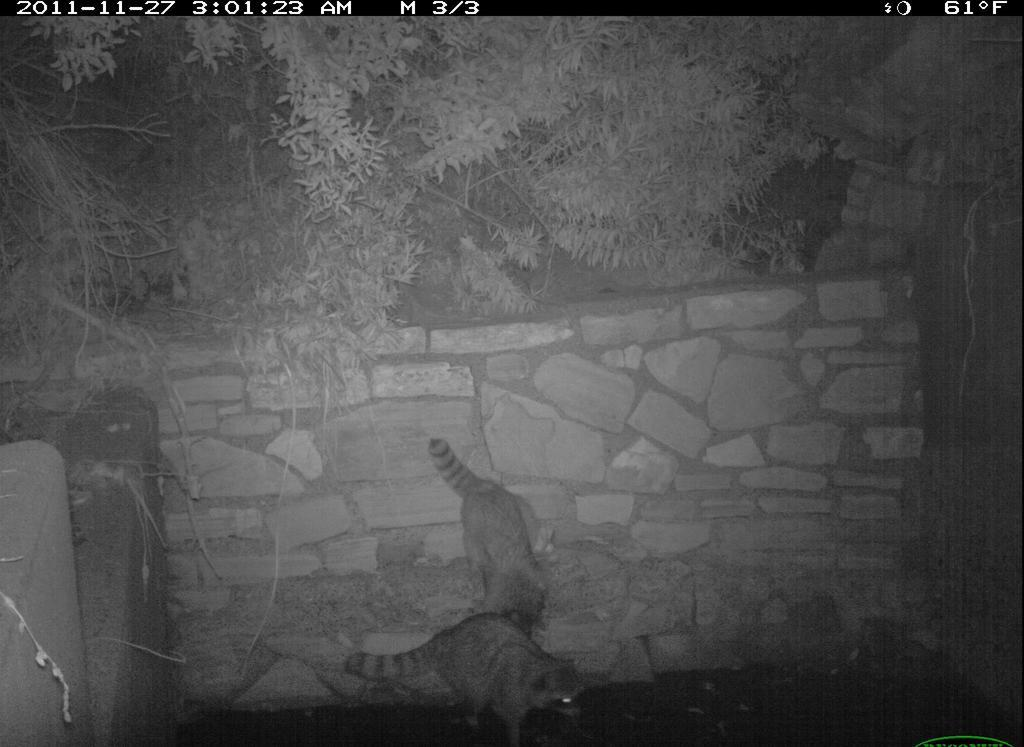raccoon: (340, 601, 599, 747), (415, 426, 566, 641)
